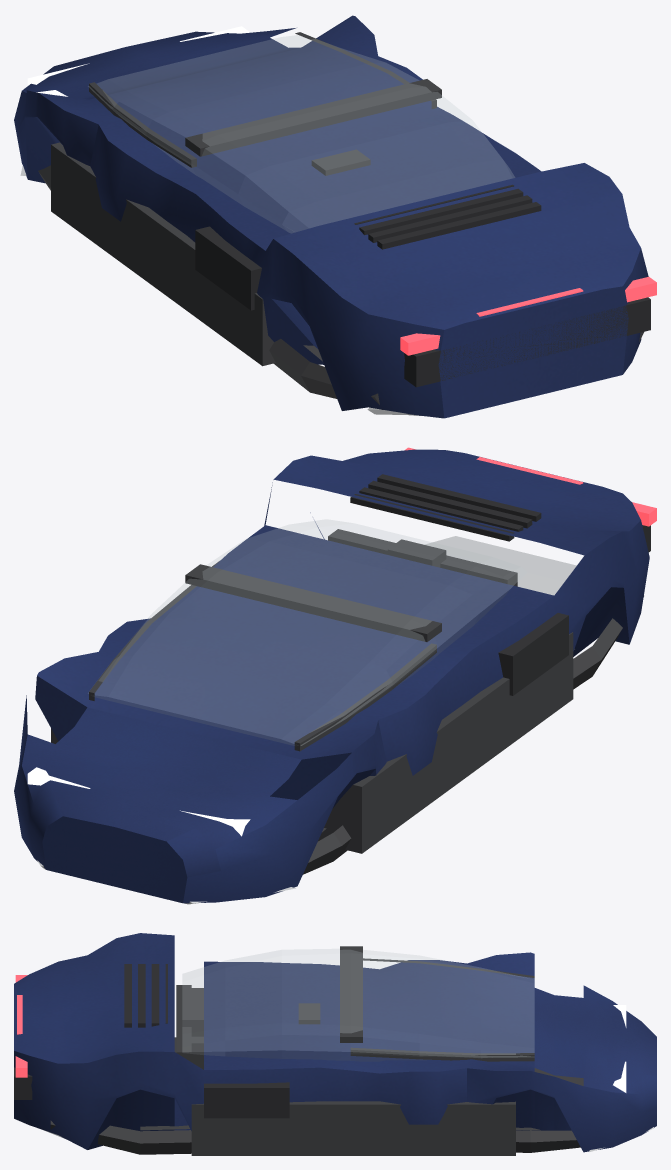
File: hero.glb
3 views of the same model, one above another, from view 1: azimuth 30°, elevation 25°; view 2: azimuth 150°, elevation 25°; view 3: azimuth 270°, elevation 25° (orthographic). The views are drawn at different scales.
Parts seen in each view (by area): view 1: body_shell, glass, interior_tub, body_vents, bonnet_shell, header_rail, body_accent, body_rear, pillar_left, seats, body_lights; view 2: body_shell, glass, bonnet_shell, interior_tub, body_vents, header_rail, body_trim, body_accent, pillar_left, seats, pillar_right, body_rear (+1 smaller); view 3: body_shell, glass, bonnet_shell, interior_tub, body_vents, body_accent, header_rail, pillar_right, seats, body_rear, pillar_left, body_lights.
Part boxes in pixels (left/top/right/bottom): body_shell: left=35, top=15, right=648, bottom=418; glass: left=88, top=35, right=514, bottom=232; interior_tub: left=51, top=142, right=275, bottom=366; body_vents: left=195, top=184, right=650, bottom=387; bonnet_shell: left=14, top=28, right=301, bottom=183; header_rail: left=185, top=79, right=441, bottom=156; body_accent: left=38, top=165, right=643, bottom=409; body_rear: left=400, top=276, right=656, bottom=355; pillar_left: left=89, top=82, right=196, bottom=167; seats: left=311, top=149, right=370, bottom=175; body_lights: left=27, top=26, right=249, bottom=95; body_shell: left=35, top=449, right=649, bottom=808; glass: left=88, top=519, right=526, bottom=745; bonnet_shell: left=14, top=695, right=353, bottom=903; interior_tub: left=51, top=529, right=573, bottom=853; body_vents: left=212, top=474, right=650, bottom=695; header_rail: left=185, top=564, right=441, bottom=641; body_trim: left=37, top=536, right=576, bottom=904; body_accent: left=303, top=596, right=643, bottom=874; pillar_left: left=294, top=643, right=436, bottom=751; seats: left=387, top=539, right=446, bottom=567; pillar_right: left=89, top=585, right=196, bottom=700; body_rear: left=405, top=447, right=656, bottom=526; body_shell: left=14, top=933, right=534, bottom=1149; glass: left=182, top=949, right=534, bottom=1061; bonnet_shell: left=534, top=985, right=656, bottom=1152; interior_tub: left=176, top=985, right=515, bottom=1155; body_vents: left=14, top=964, right=289, bottom=1118; body_accent: left=50, top=1037, right=583, bottom=1154; header_rail: left=340, top=946, right=362, bottom=1042; pillar_right: left=350, top=1047, right=534, bottom=1061; seats: left=182, top=1003, right=320, bottom=1069; body_rear: left=15, top=975, right=27, bottom=1077; pillar_left: left=363, top=958, right=534, bottom=977; body_lights: left=613, top=1005, right=626, bottom=1092.
Size of the model in its own units: 1.85 by 0.81 by 4.2.
8 materials, 1 textured.
